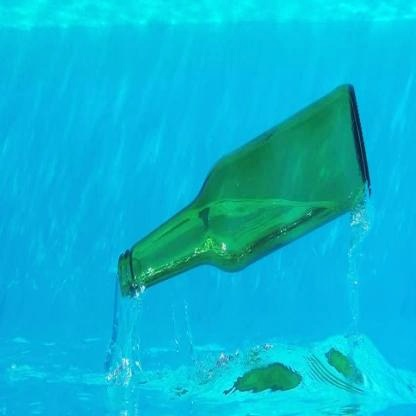gbottle: (117, 81, 373, 302)
